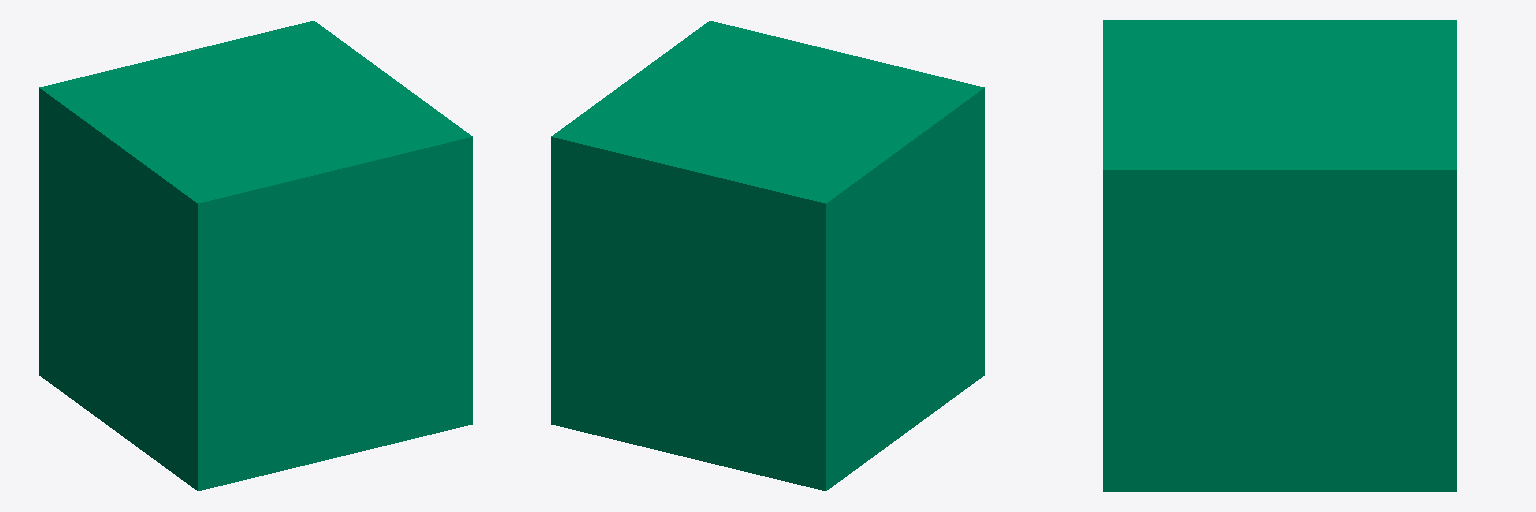
robot.urdf — bravo_7_example:
<?xml version="1.0" ?>
<!-- =================================================================================== -->
<!-- |    This document was autogenerated by xacro from bravo_7_example.urdf.xacro     | -->
<!-- |    EDITING THIS FILE BY HAND IS NOT RECOMMENDED                                 | -->
<!-- =================================================================================== -->
<robot name="bravo_7_example">

<!-- ======================== This URDF is restricted to the "pitch plane" ========================== -->

  <!-- See K&D properties: -->
  <!-- https://blueprint-lab.github.io/Blueprint_Lab_Software/documentation/index.html -->
  <!-- https://en.wikipedia.org/wiki/Denavit%E2%80%93Hartenberg_parameters#:~:text=handed%20coordinate%20system.-,Four%20parameters,-%5Bedit%5D -->
  <material name="bravo_black">
    <color rgba="0.3 0.3 0.3 1. "/>
  </material>
  <material name="bravo_finger_jaws_black">
    <color rgba="0.3 0.3 0.3 1. "/>
  </material>
  <link name="world"/>
  <joint name="bravo_joint" type="fixed">
    <origin rpy="0 0 0" xyz="0 0 0"/>
    <parent link="world"/>
    <child link="bravo_base_link"/>
    <origin rpy="0 0 0" xyz="0 0 0"/>
    <dynamics damping="10.0" friction="0.0"/>
  </joint>

  <link name="bravo_base_link">
    <inertial>
      <mass value="1.25"/>
      <origin xyz="-0.075 -0.006 -0.003"/>
      <inertia ixx="0.002108" ixy="0.00018199999999999998" ixz="-1.4999999999999999e-05" iyy="0.0025729999999999998" iyz="-2.1e-05" izz="0.003483"/>
    </inertial>
    <visual>
      <geometry>
        <mesh filename="package://bpl_bravo_description_real/meshes/RS2-1019_base.stl"/>
      </geometry>
      <material name="bravo_black"/>
      <origin rpy="0.0 -0.0 0.0" xyz="0.0 0.0 0.0"/>
    </visual>
  </link>

  <link name="test">
    <visual>
      <geometry>
        <box size="0.05 0.05 0.05"/>
        <origin rpy="0.0 -0.0 0.0" xyz="-0.0 -0.0 -0.0"/>
      </geometry>
    </visual>
  </link>

    <joint name="test_joint" type="fixed">
    <origin rpy="0.0 -0.0 0.0" xyz="0.075 0.006 0.003"/>
    <axis xyz=" -1. 0. 0."/>
    <parent link="bravo_base_link"/>
    <child link="test"/>
  </joint>
</robot>

--- Facts derived from the render (not from the file) ---
The picture shows the robot from 3 angles, left to right: view 1: azimuth 30°, elevation 25°; view 2: azimuth 150°, elevation 25°; view 3: azimuth 270°, elevation 25°; orthographic projection.
Robot: bravo_7_example — 3 links, 2 joints (2 fixed); root link world; default pose: all joints at 0.
Links seen in each view (by area): view 1: test; view 2: test; view 3: test.
Boxes of the visible links, x1,y1,x2,y2 form: test: (39, 21, 472, 490); test: (551, 21, 984, 490); test: (1103, 20, 1456, 491).
Bounding box of the posed robot: 0.05 × 0.05 × 0.05 m (x, y, z).
Meshes: 1 distinct files referenced, 0 mesh visuals loaded (none loaded); not drawn: 1 (reference not matched to a file when rendering).
